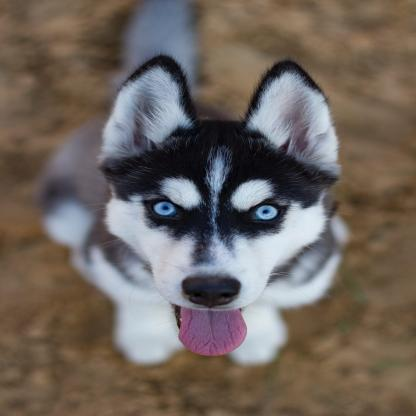dog: (35, 1, 349, 375)
